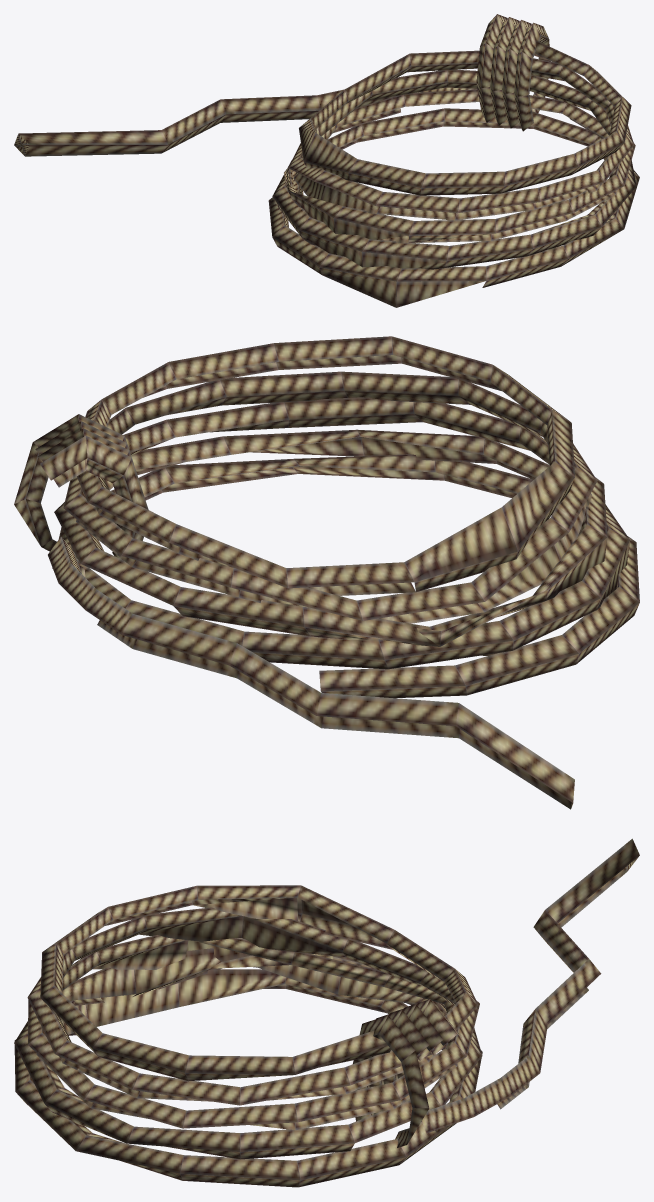
File: S_Build_West075_1.FBX
3 views of the same model, one above another, from view 1: azimuth 30°, elevation 25°; view 2: azimuth 150°, elevation 25°; view 3: azimuth 270°, elevation 25° (orthographic). The views are drawn at different scales.
Parts seen in each view (by area): view 1: S_Build_West075_1; view 2: S_Build_West075_1; view 3: S_Build_West075_1.
Part boxes in pixels (left/top/right/bottom): S_Build_West075_1: left=14, top=14, right=639, bottom=307; S_Build_West075_1: left=14, top=336, right=639, bottom=809; S_Build_West075_1: left=14, top=838, right=639, bottom=1187.
Size of the model in its own units: 160 by 139 by 46.03.
